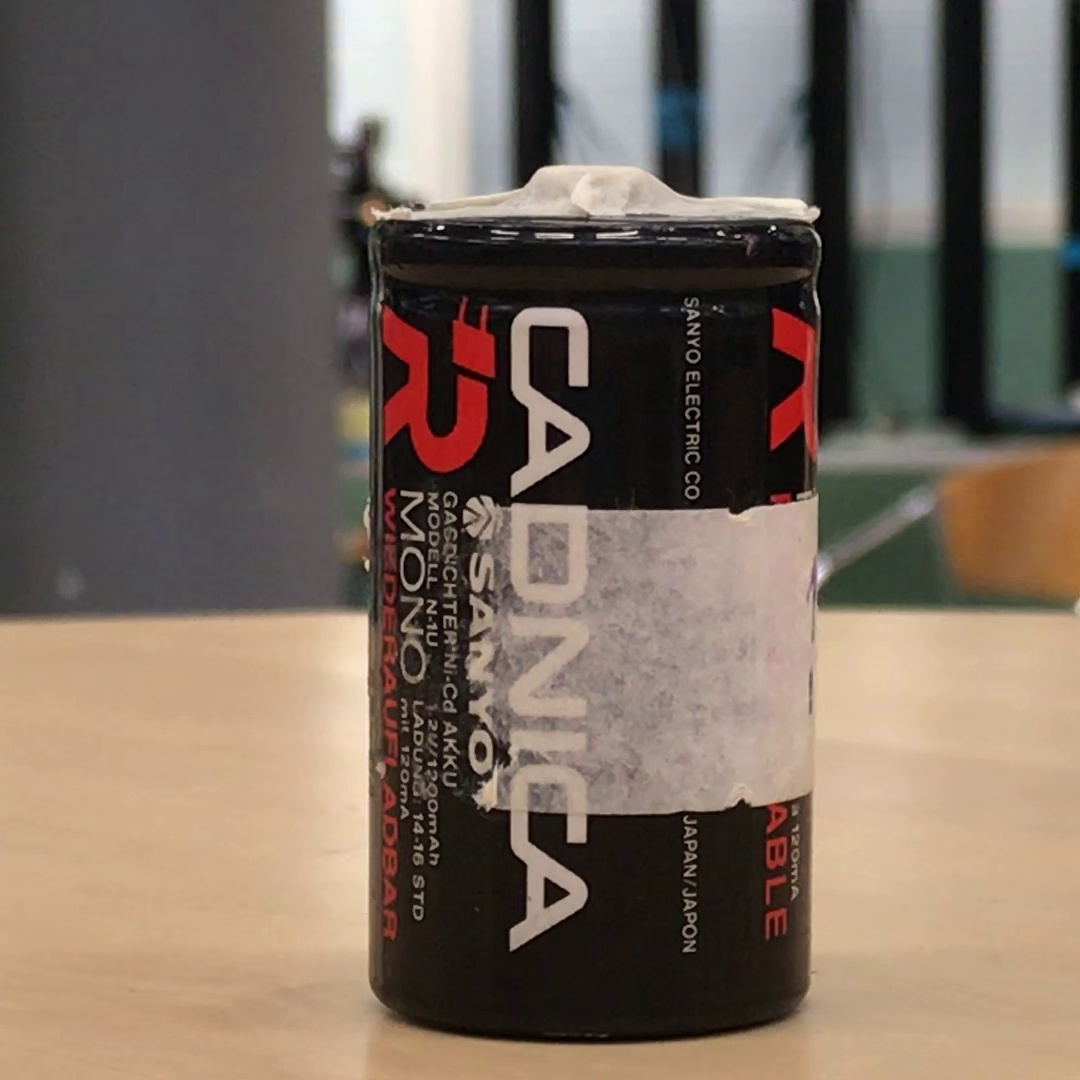keyword: (440, 645, 466, 722)
